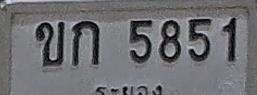1: (222, 16, 236, 62)
5: (188, 18, 211, 62), (130, 18, 152, 63)
8: (158, 18, 180, 62)
A01: (72, 19, 100, 66)
A02: (35, 20, 65, 67)
